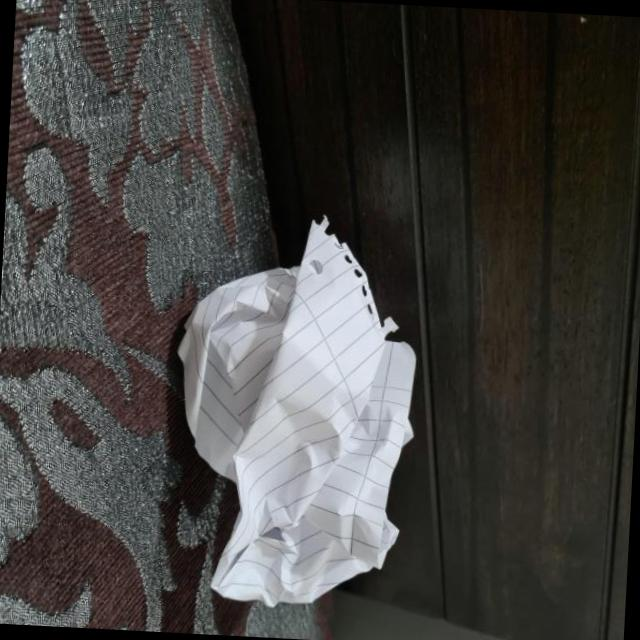cardboard paper: (181, 218, 417, 603)
